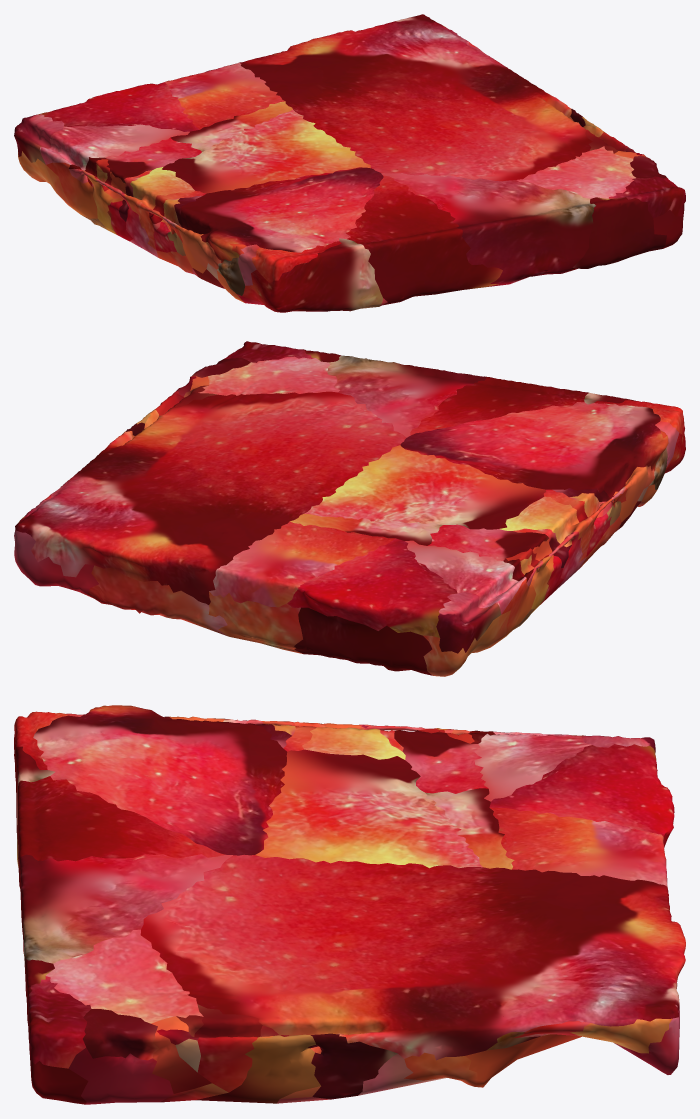
File: 3DModel.obj
3 views of the same model, one above another, from view 1: azimuth 30°, elevation 25°; view 2: azimuth 150°, elevation 25°; view 3: azimuth 270°, elevation 25° (orthographic). The views are drawn at different scales.
Parts seen in each view (by area): view 1: 3DModel; view 2: 3DModel; view 3: 3DModel.
Part boxes in pixels (left/top/right/bottom): 3DModel: left=14, top=14, right=685, bottom=312; 3DModel: left=14, top=341, right=685, bottom=676; 3DModel: left=14, top=705, right=685, bottom=1104.
Bounding box in the file's own units: 0.3149 × 0.0636 × 0.3018.
